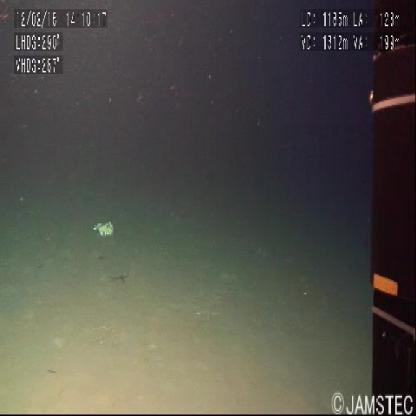Rác: (87, 202, 124, 245)
